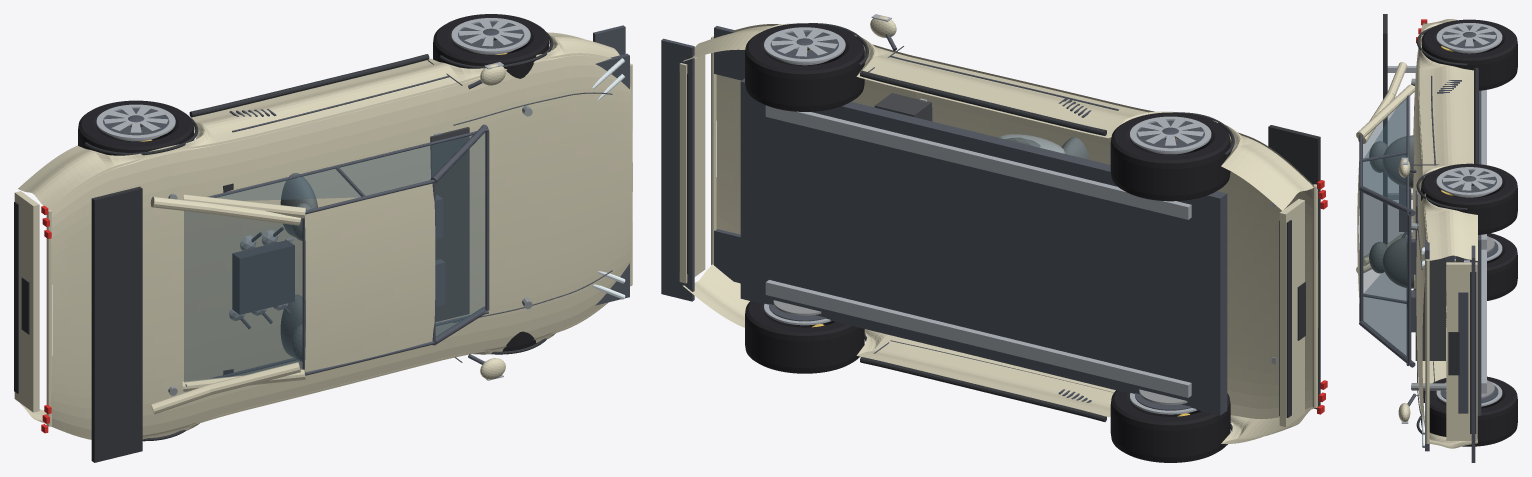
The picture shows the model from 3 angles, left to right: view 1: azimuth 30°, elevation 25°; view 2: azimuth 150°, elevation 25°; view 3: azimuth 270°, elevation 25°; orthographic projection. The views are drawn at different scales.
Parts seen in each view (by area): view 1: body_paint, body_glass, body_accent, body_black, body_windshield, body_dash, wheel_front_R_rubber, wheel_rear_R_rubber, body_seat, wheel_rear_R_metal, wheel_front_R_metal, body_metal (+3 smaller); view 2: body_black, body_paint, body_metal, body_accent, wheel_rear_R_rubber, wheel_front_R_rubber, wheel_rear_L_rubber, wheel_front_L_rubber, wheel_front_R_metal, wheel_rear_R_metal, body_dash, wheel_rear_R_black (+1 smaller); view 3: body_paint, body_black, body_glass, body_windshield, wheel_rear_R_rubber, wheel_front_R_rubber, body_accent, body_seat, wheel_front_L_rubber, body_dash, body_metal, wheel_rear_L_rubber (+6 smaller).
Boxes of the visible parts, x1=… form: body_paint: x1=14, y1=32, x2=632, y2=439; body_glass: x1=184, y1=132, x2=485, y2=382; body_accent: x1=14, y1=32, x2=553, y2=462; body_black: x1=185, y1=25, x2=629, y2=386; body_windshield: x1=436, y1=133, x2=485, y2=337; body_dash: x1=430, y1=127, x2=469, y2=321; wheel_front_R_rubber: x1=433, y1=14, x2=549, y2=78; wheel_rear_R_rubber: x1=78, y1=100, x2=194, y2=155; body_seat: x1=280, y1=173, x2=317, y2=361; wheel_rear_R_metal: x1=96, y1=104, x2=175, y2=139; wheel_front_R_metal: x1=451, y1=18, x2=530, y2=52; body_metal: x1=229, y1=62, x2=503, y2=380; body_black: x1=661, y1=26, x2=1227, y2=415; body_paint: x1=679, y1=16, x2=1318, y2=443; body_metal: x1=765, y1=14, x2=1276, y2=397; body_accent: x1=679, y1=23, x2=1320, y2=446; wheel_rear_R_rubber: x1=1110, y1=112, x2=1230, y2=201; wheel_front_R_rubber: x1=745, y1=23, x2=864, y2=111; wheel_rear_L_rubber: x1=1110, y1=390, x2=1230, y2=462; wheel_front_L_rubber: x1=745, y1=301, x2=864, y2=373; wheel_front_R_metal: x1=764, y1=27, x2=845, y2=63; wheel_rear_R_metal: x1=1130, y1=116, x2=1211, y2=152; body_dash: x1=874, y1=93, x2=932, y2=121; wheel_rear_R_black: x1=1136, y1=120, x2=1204, y2=148; body_paint: x1=1356, y1=19, x2=1477, y2=448; body_black: x1=1359, y1=75, x2=1481, y2=462; body_glass: x1=1362, y1=97, x2=1409, y2=362; body_windshield: x1=1362, y1=192, x2=1407, y2=359; wheel_rear_R_rubber: x1=1421, y1=19, x2=1517, y2=90; wheel_front_R_rubber: x1=1421, y1=163, x2=1517, y2=234; body_accent: x1=1383, y1=14, x2=1478, y2=433; body_seat: x1=1369, y1=135, x2=1446, y2=304; wheel_front_L_rubber: x1=1421, y1=376, x2=1517, y2=446; body_dash: x1=1406, y1=190, x2=1463, y2=360; body_metal: x1=1387, y1=66, x2=1486, y2=423; wheel_rear_L_rubber: x1=1487, y1=233, x2=1517, y2=300.
Size of the model in its own units: 4.44 by 2.18 by 1.22.
